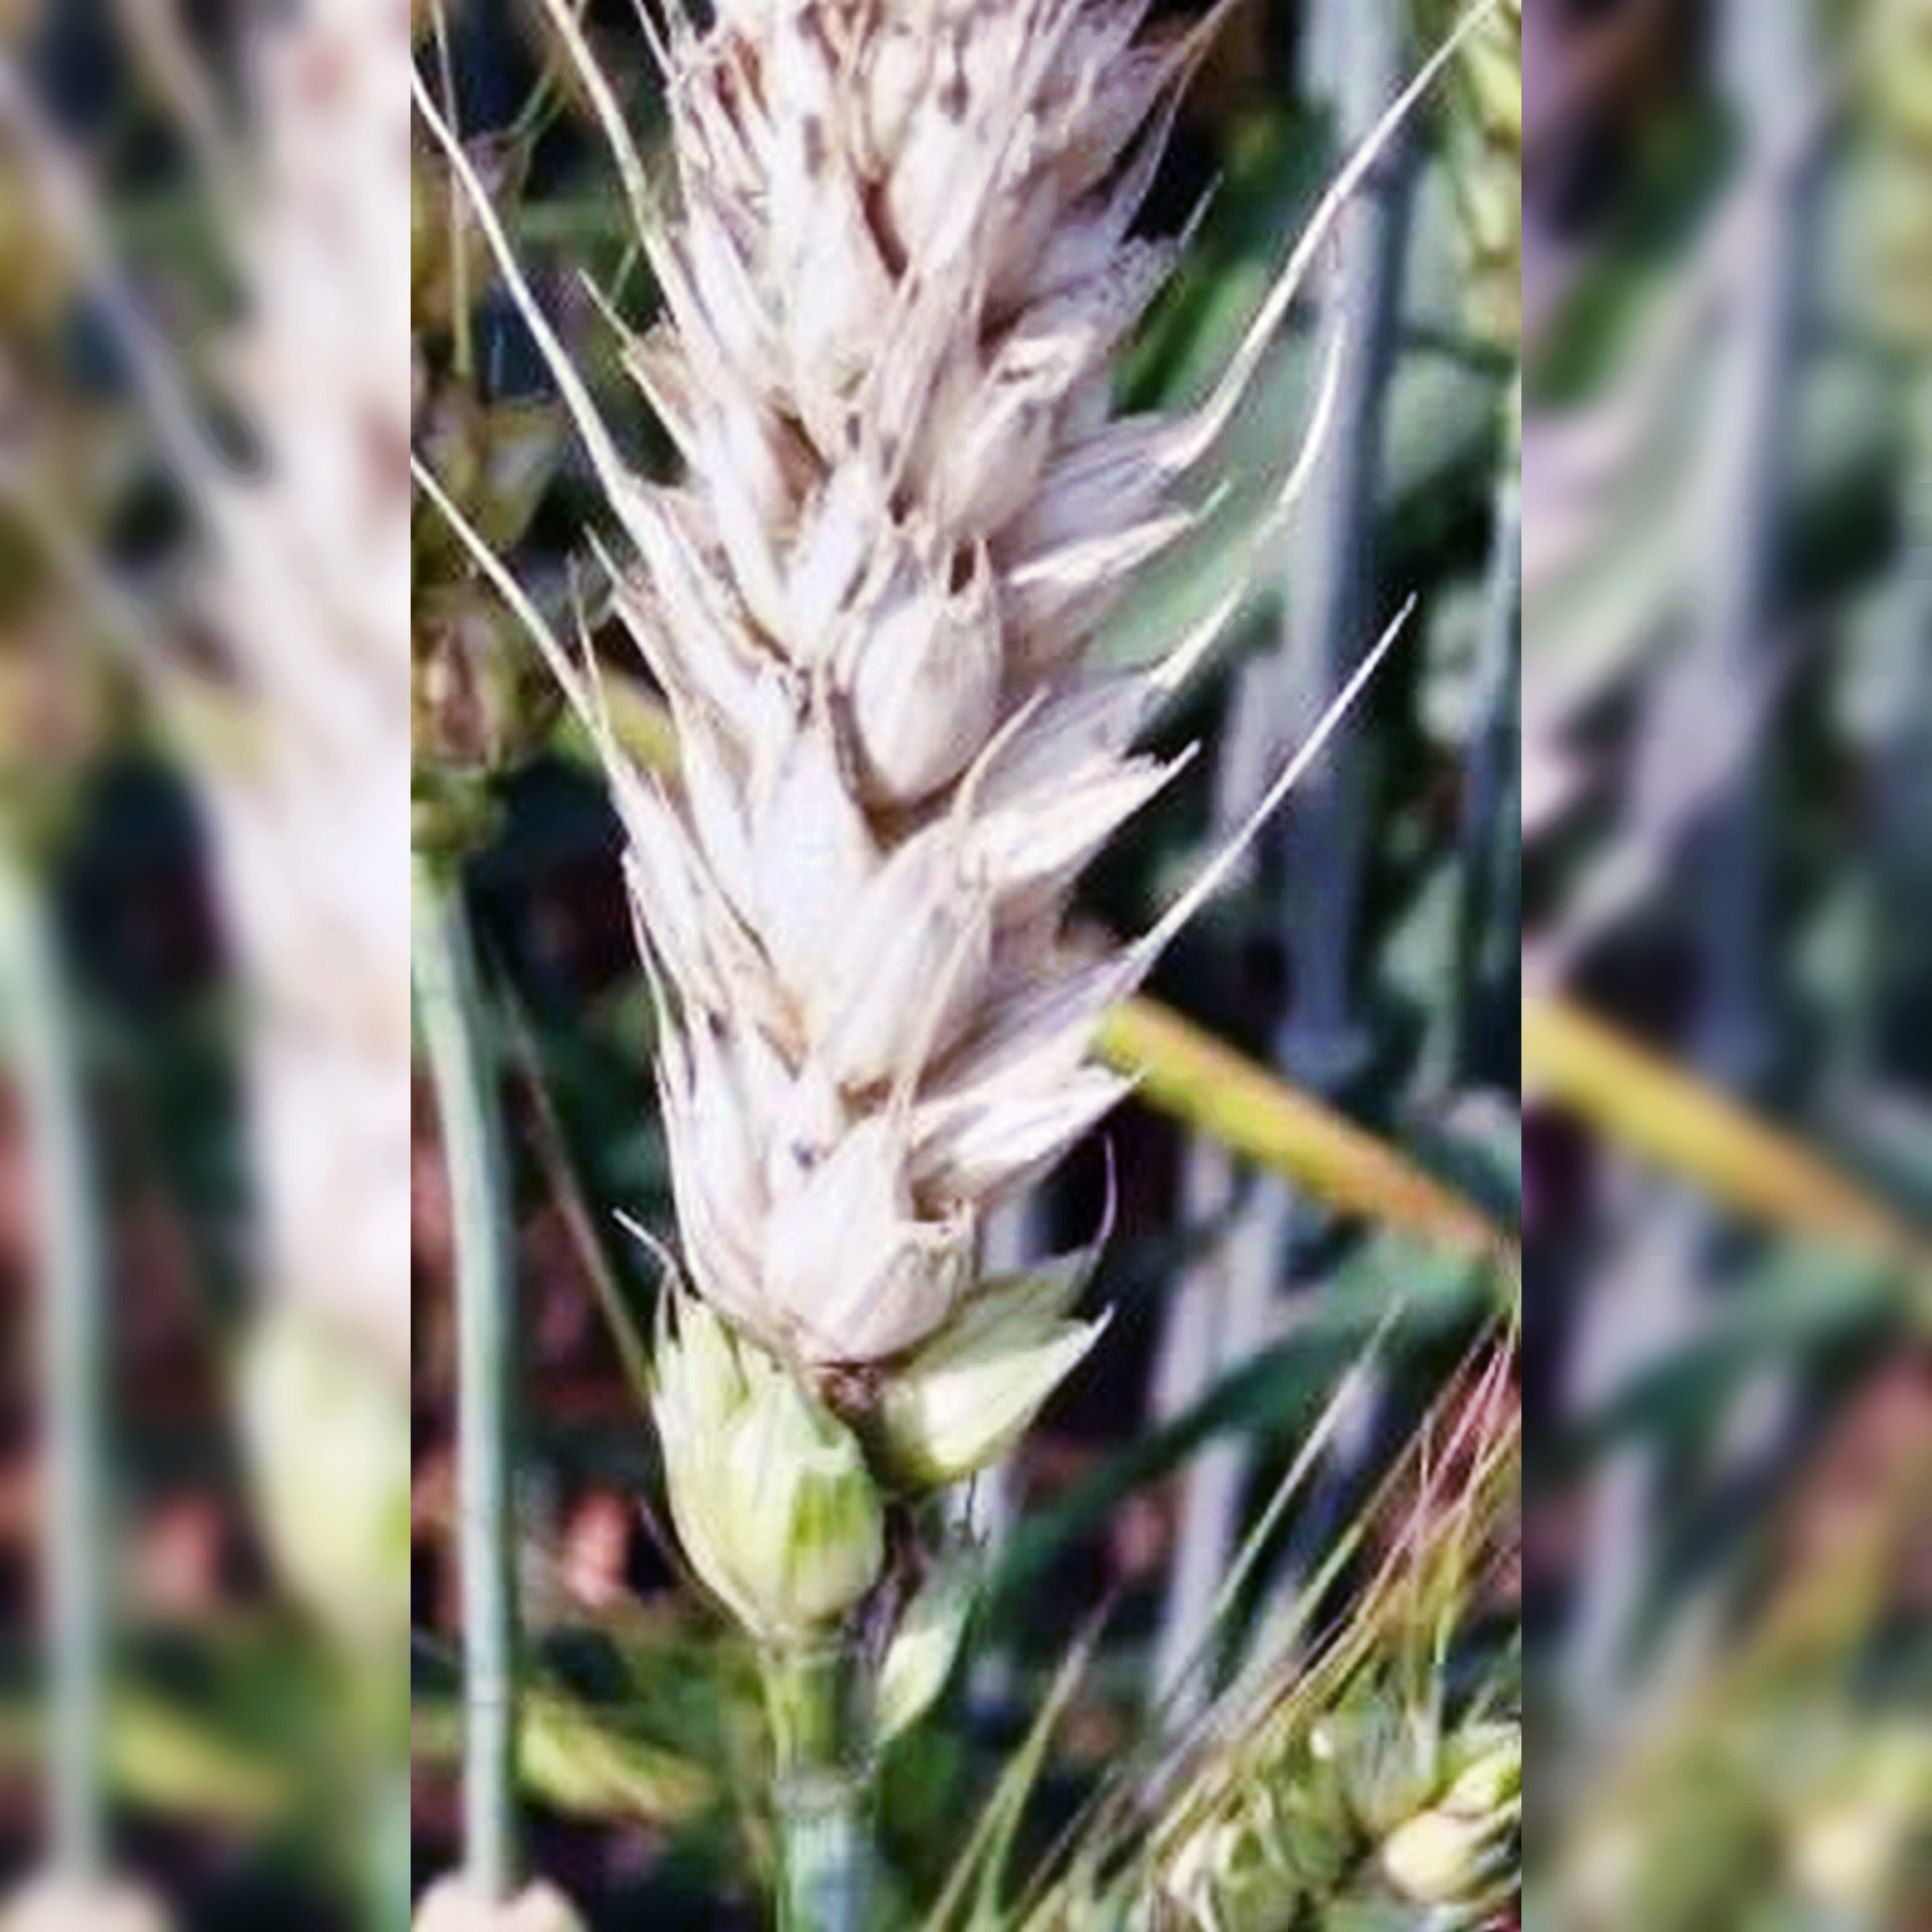Wheat scab: (550, 18, 1162, 1725)
